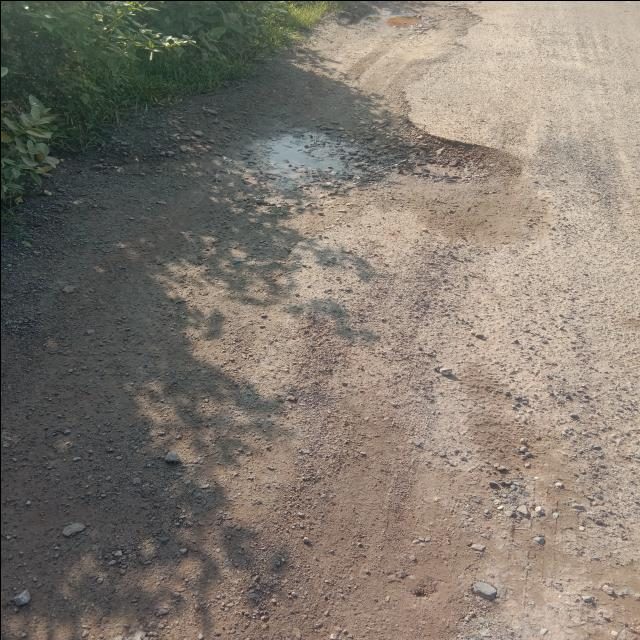potholes: (234, 118, 498, 196)
